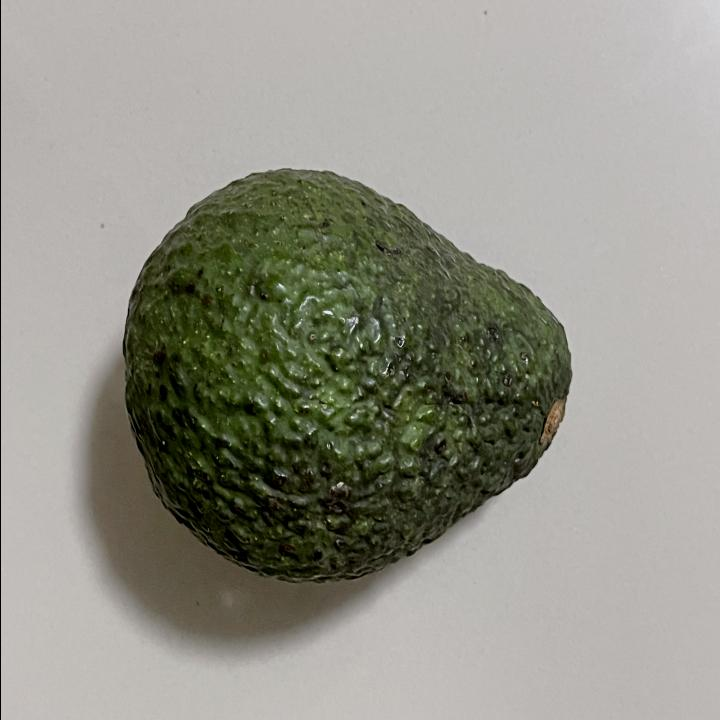Level1: (106, 151, 590, 598)
